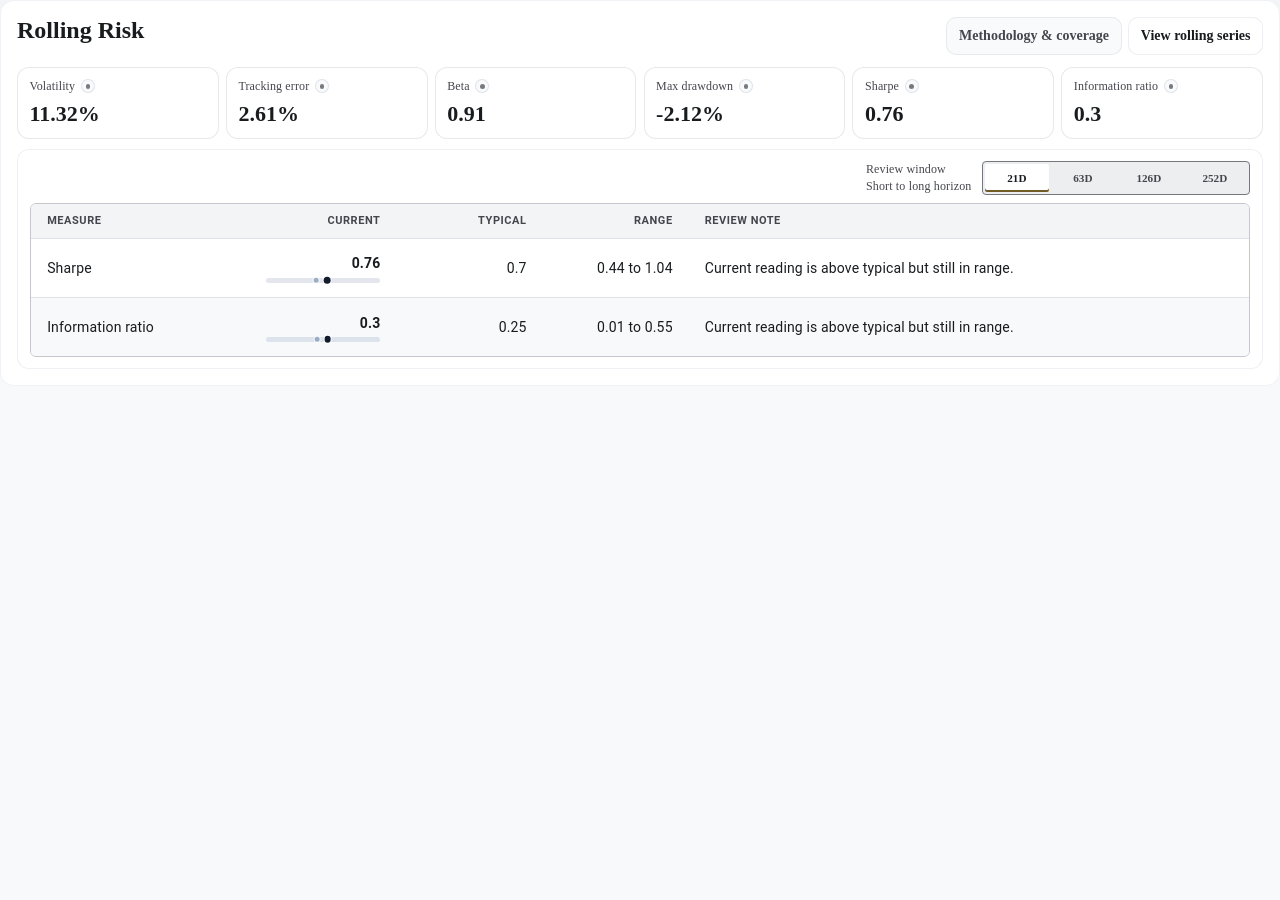
Scenario: RiskRollingPanel › reveals rolling methodology and coverage on demand
Click the button with aria-label "Rolling Risk methodology and coverage" at (1034, 36), box [946,17,1122,55]
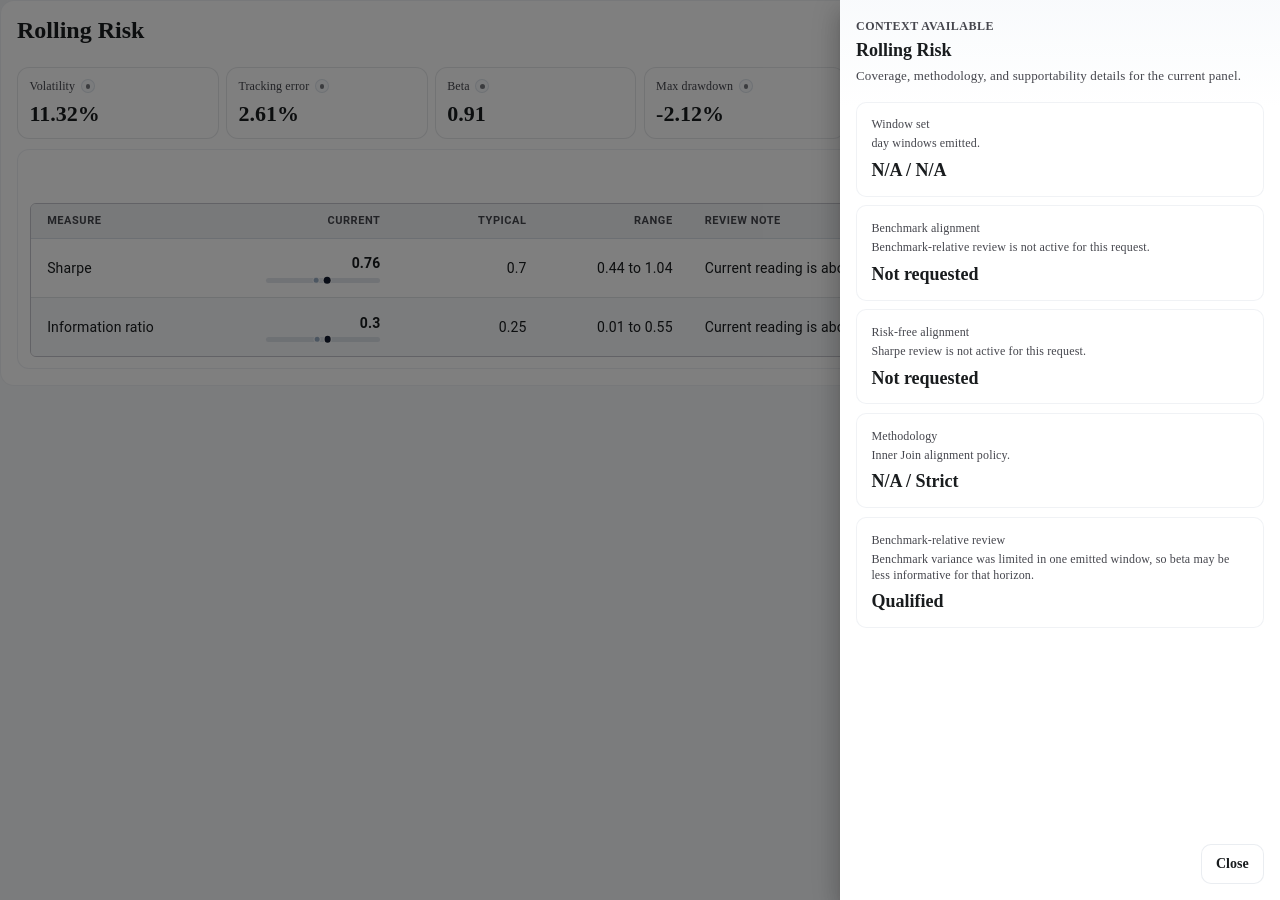
Expected: the dialog named "Rolling Risk methodology and coverage" is shown, [840,0,1279,899]
Expected: the text "Window set" is shown, [871,117,930,131]
Expected: the text "Benchmark alignment" is shown, [871,221,980,235]
